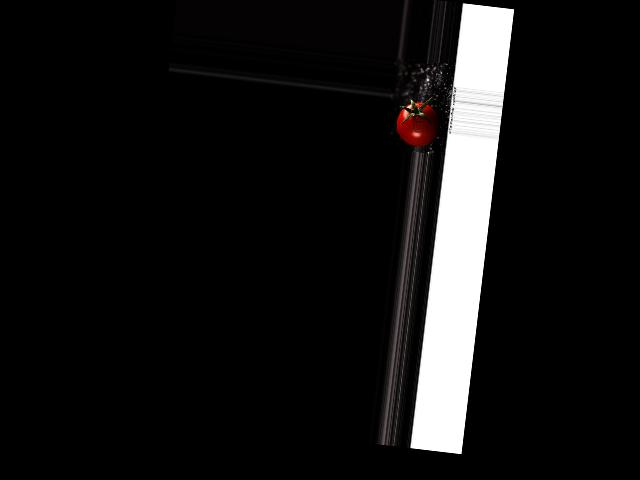tomato: (394, 100, 441, 148)
